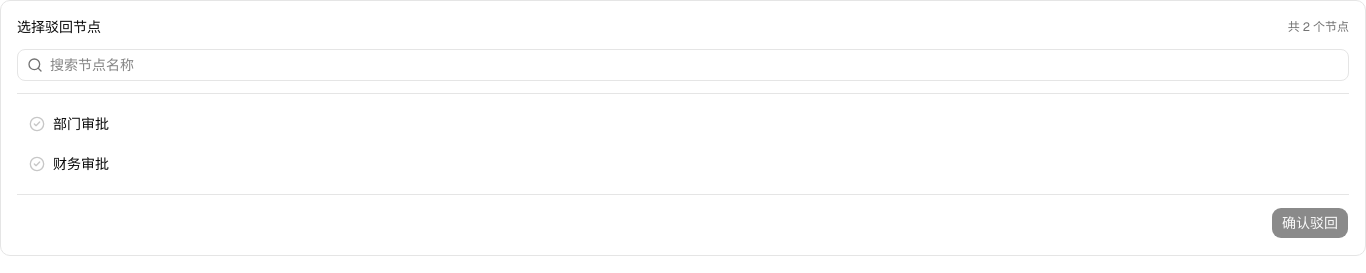
Test: RebutNodeSelect › clears the search query via the clear button
Type "财务" into the field labelled "搜索节点名称" at (683, 65), box [17,49,1349,81]
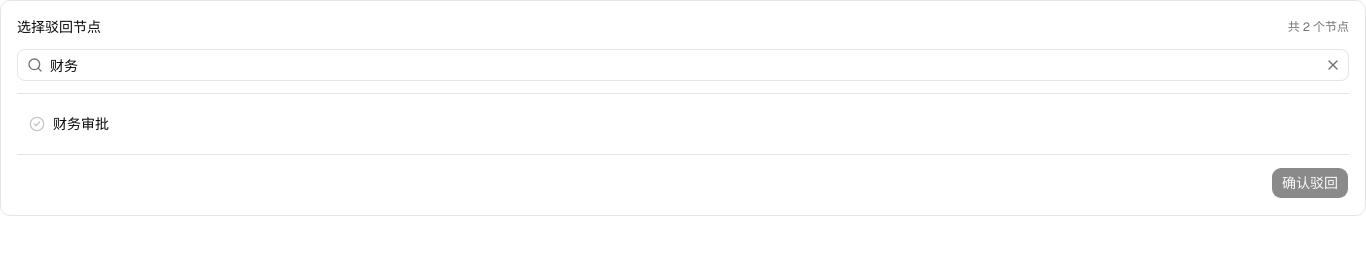
Now the button "部门审批" is gone
Click the button named "清除搜索" at (1333, 65), box [1325,57,1341,73]
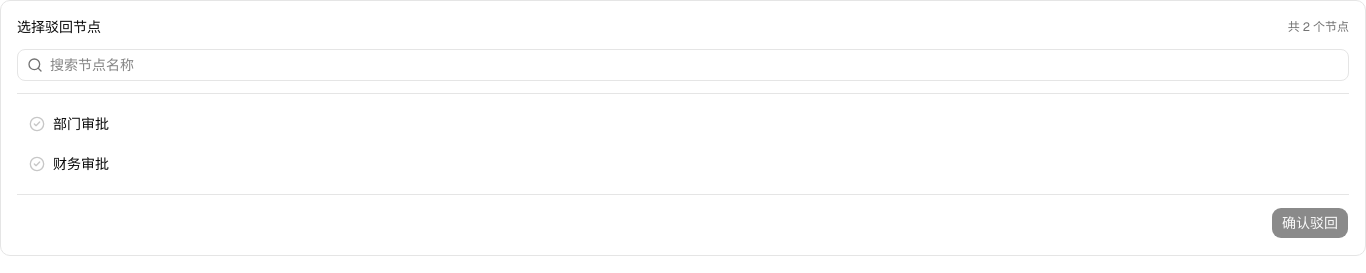
Expected: the text "财务审批" is shown, [53,155,109,173]
Now the field labelled "搜索节点名称" is empty, box [17,49,1349,81]
Now the text "部门审批" is shown, box [53,115,109,133]
